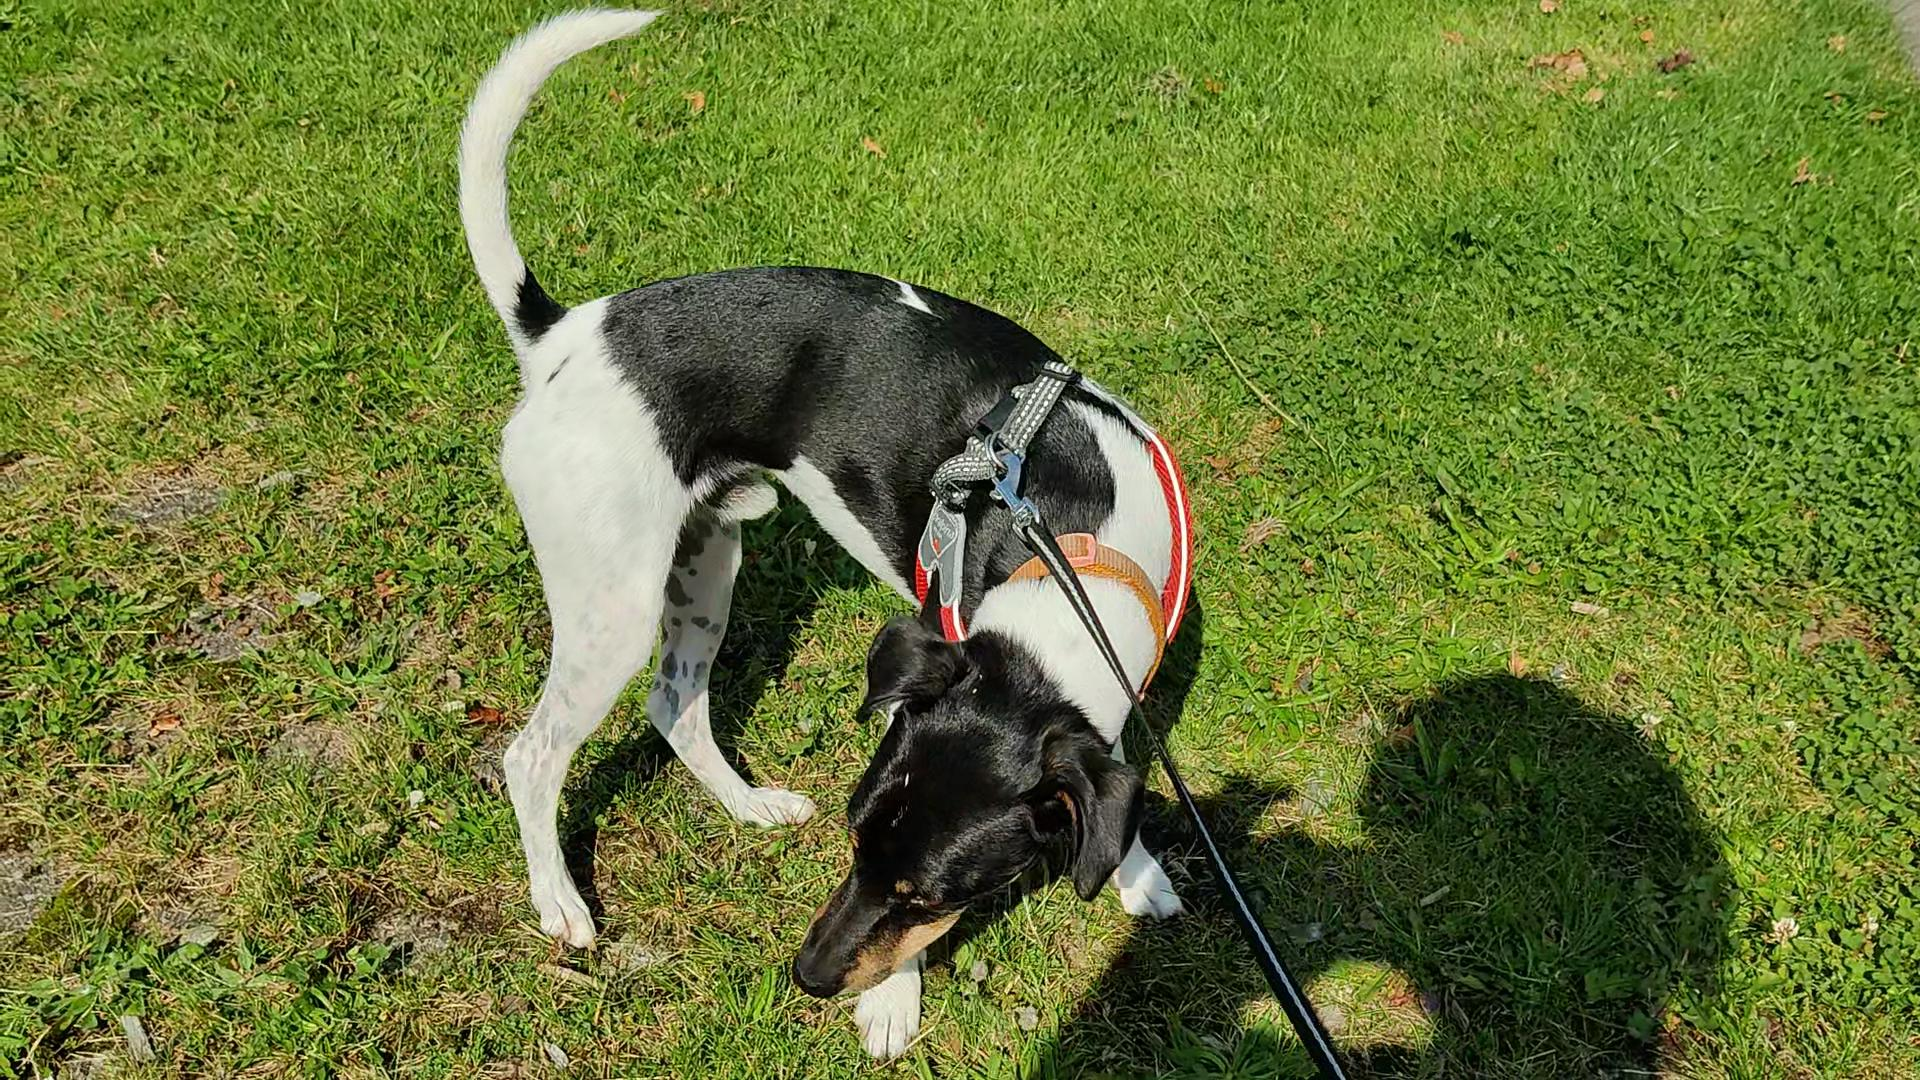Dog: (447, 7, 1203, 1062)
